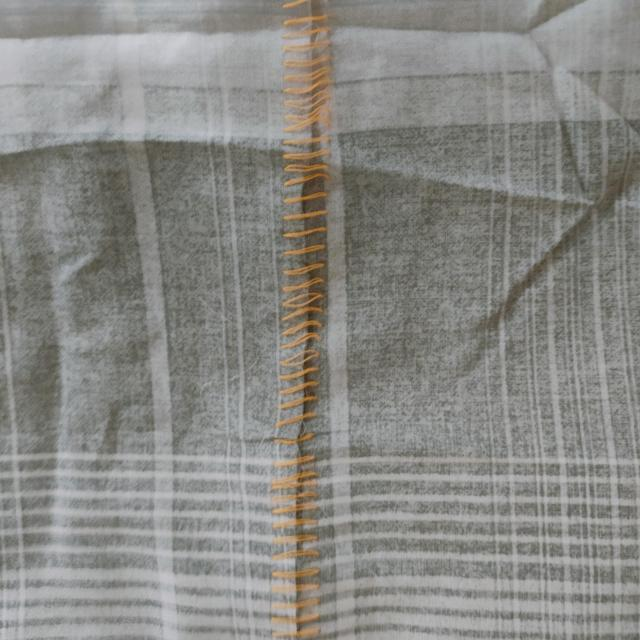gray stitch: (274, 0, 342, 639)
